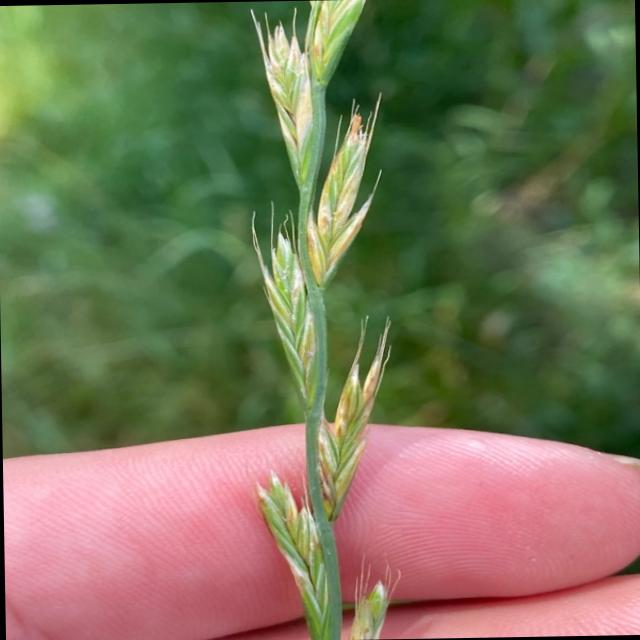Lolium: (237, 0, 403, 640)
